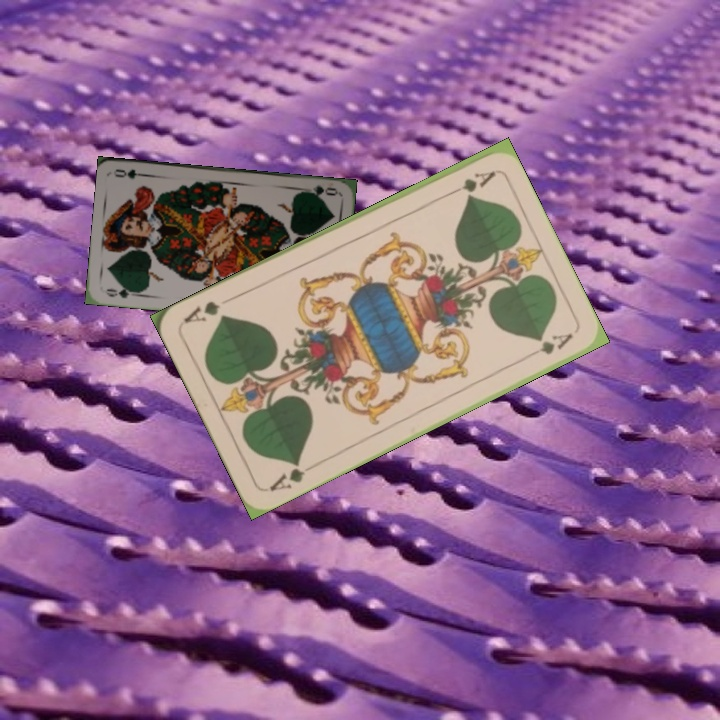GA: (441, 167, 498, 200), (265, 457, 308, 495)
GO: (299, 181, 340, 199), (100, 283, 141, 301)
